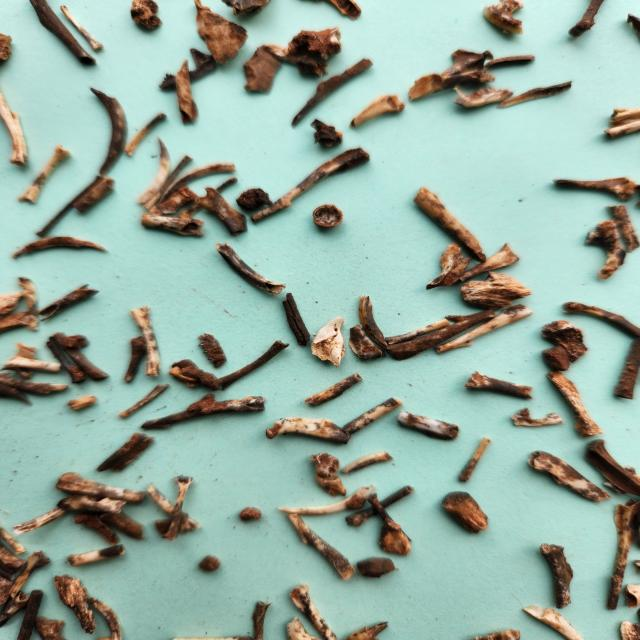fossil: (248, 146, 373, 226), (383, 306, 497, 364), (289, 56, 377, 130), (13, 0, 100, 71), (411, 184, 488, 264), (434, 302, 535, 358), (137, 391, 268, 433), (34, 170, 108, 241), (284, 512, 358, 583), (523, 446, 614, 503), (260, 24, 346, 79), (81, 82, 129, 180), (544, 368, 608, 438), (216, 336, 291, 394), (604, 498, 640, 612), (188, 0, 250, 66), (214, 241, 288, 296), (16, 144, 72, 213), (530, 538, 580, 612), (275, 480, 376, 516), (578, 216, 631, 283), (158, 160, 238, 204), (582, 437, 640, 497), (449, 239, 524, 285), (49, 572, 102, 637), (457, 270, 539, 312), (558, 298, 640, 340), (342, 484, 416, 530), (544, 168, 640, 203), (52, 470, 148, 505), (140, 153, 197, 211), (51, 328, 112, 382), (258, 414, 358, 446), (287, 582, 341, 640), (436, 486, 497, 537), (92, 429, 159, 475), (192, 186, 252, 237), (405, 70, 500, 102), (155, 46, 217, 94), (56, 2, 110, 57), (144, 482, 202, 533), (9, 234, 110, 263), (538, 318, 602, 363), (0, 81, 32, 170), (516, 603, 591, 640), (338, 396, 409, 435), (422, 241, 476, 292), (128, 304, 165, 378), (462, 367, 538, 403), (134, 136, 173, 205), (179, 177, 241, 220), (162, 472, 198, 546), (4, 548, 53, 602), (37, 283, 103, 323), (237, 42, 286, 95), (394, 407, 464, 443), (498, 78, 576, 110), (301, 372, 368, 409), (366, 491, 413, 543), (352, 290, 391, 350), (124, 112, 172, 160), (138, 210, 210, 241), (9, 502, 71, 538), (608, 332, 640, 401), (349, 91, 407, 129), (474, 0, 530, 39), (44, 335, 86, 386), (310, 314, 348, 369), (383, 316, 451, 346), (566, 0, 618, 39), (118, 382, 172, 419), (49, 493, 132, 517), (448, 84, 514, 114), (173, 56, 201, 126), (603, 202, 640, 254), (457, 434, 494, 486), (171, 356, 223, 392), (73, 511, 126, 546), (280, 292, 313, 348), (146, 185, 202, 218), (67, 542, 131, 570), (73, 175, 117, 215), (438, 46, 496, 76), (376, 515, 416, 558), (0, 371, 69, 395), (89, 594, 125, 640), (346, 321, 384, 364), (15, 586, 45, 640), (99, 509, 148, 542), (353, 554, 408, 583), (196, 330, 234, 370), (124, 0, 167, 35), (339, 449, 399, 474), (121, 333, 148, 384), (0, 586, 31, 630), (507, 405, 565, 428), (307, 117, 347, 150), (340, 616, 392, 640), (600, 464, 640, 494), (306, 450, 345, 478), (6, 354, 63, 373), (283, 614, 324, 640), (219, 0, 275, 19), (311, 472, 351, 498), (0, 311, 43, 335), (481, 52, 541, 69), (250, 598, 273, 640), (16, 274, 42, 311), (234, 186, 274, 210), (540, 346, 574, 374), (0, 524, 29, 556), (0, 28, 21, 72), (323, 0, 365, 22), (312, 203, 346, 230), (154, 511, 190, 536), (0, 383, 36, 407), (0, 543, 27, 575), (34, 614, 67, 640), (600, 120, 640, 140), (11, 338, 43, 362), (192, 552, 224, 576), (0, 289, 26, 317), (232, 504, 268, 524), (474, 626, 523, 640), (163, 364, 200, 382), (605, 105, 640, 123), (0, 363, 36, 380), (66, 393, 96, 413), (168, 634, 254, 640), (622, 583, 640, 611), (615, 620, 640, 640), (624, 8, 640, 38)
